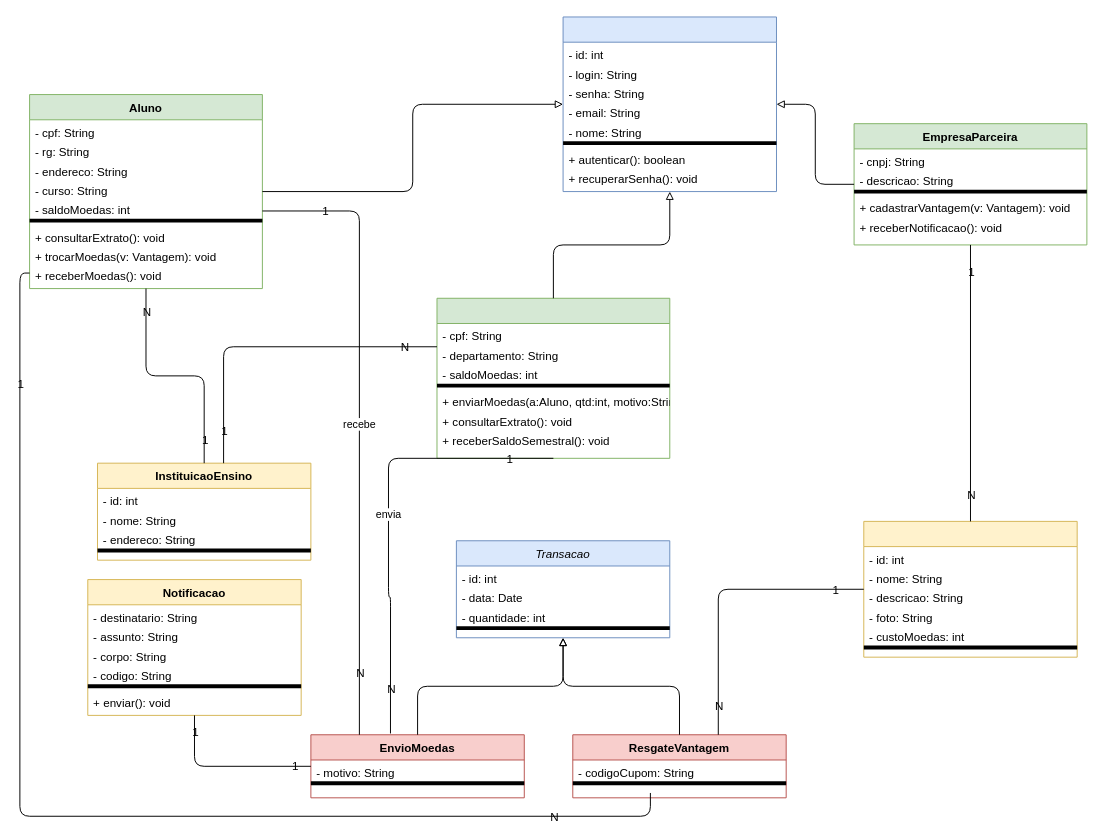
Image size: 1105x840. Some labels were removed from this diagram. The shapes that lost their labels are listed below. From the top down, each one's box as (x1, y1, x2, y2) in pixels, then its label:
(562, 16, 776, 192): Usuario
(436, 297, 670, 458): Professor
(863, 520, 1077, 657): Vantagem
